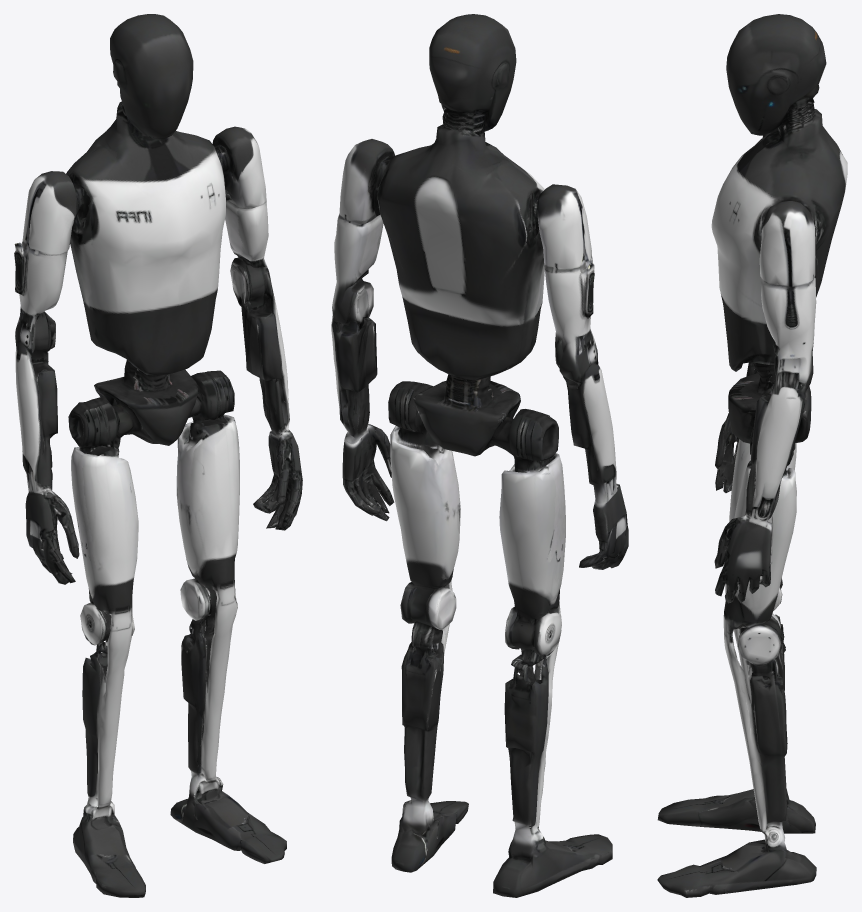
Rendered from Meshy_AI_Tesla_Bot_0225233704_texture.glb.
3 renders of one model, left to right at view 1: azimuth 30°, elevation 25°; view 2: azimuth 150°, elevation 25°; view 3: azimuth 270°, elevation 25°, orthographic. The views are drawn at different scales.
Bounding box in the file's own units: 0.6699 × 2 × 0.4137.
Materials: 1 (1 with a texture image).
